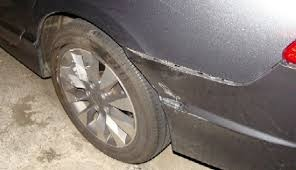Dent: (126, 46, 255, 87)
Scratch: (159, 81, 184, 113)
